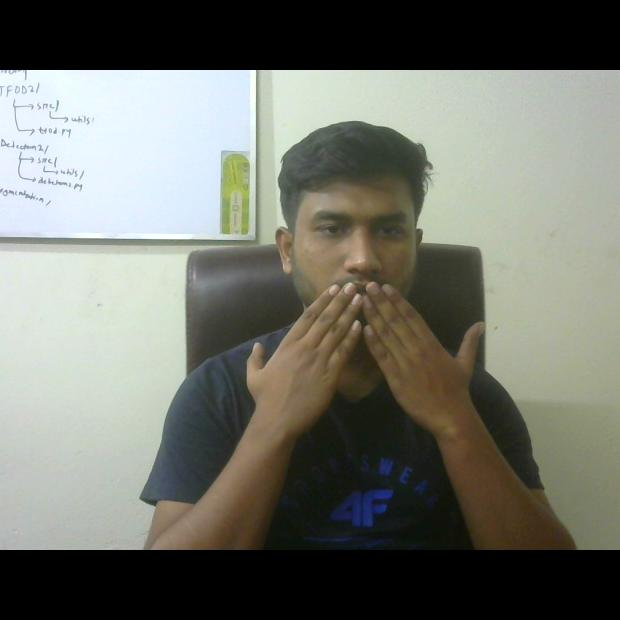D: (223, 272, 512, 449)
